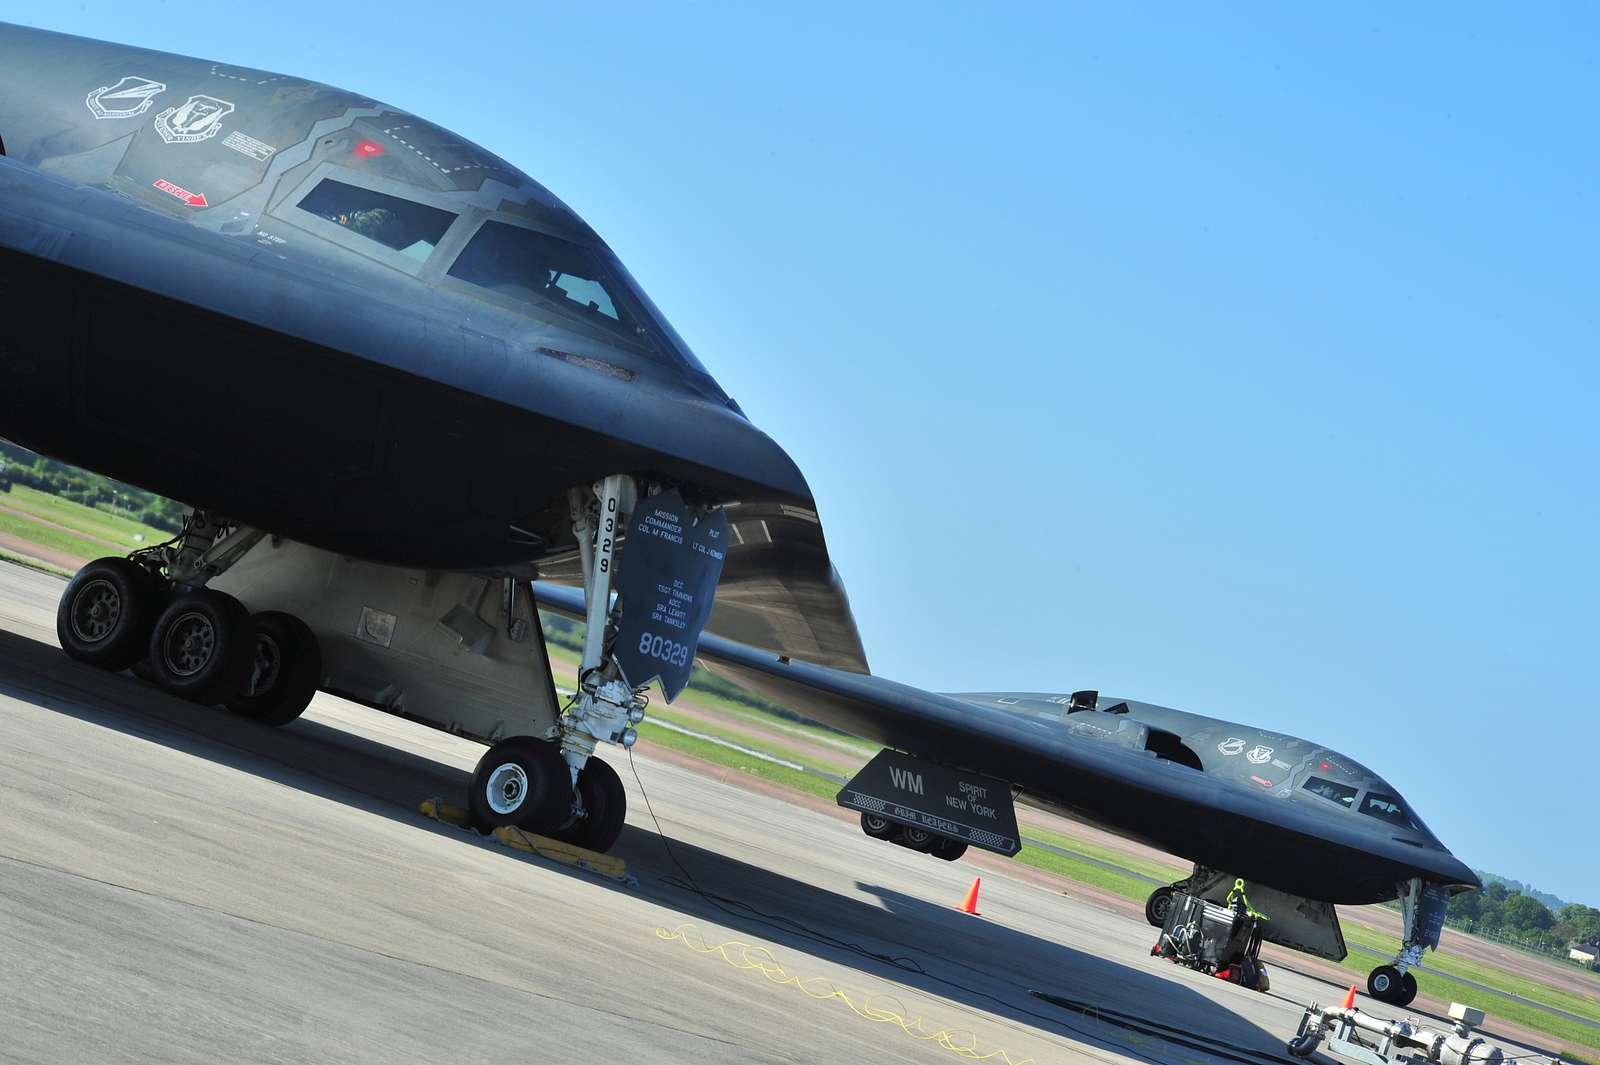B2: (1, 21, 873, 853), (531, 580, 1484, 1006)
